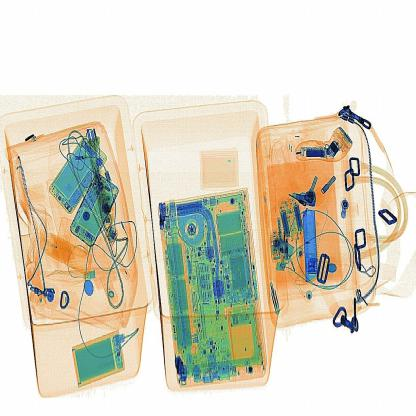pliers: (294, 202, 327, 288)
